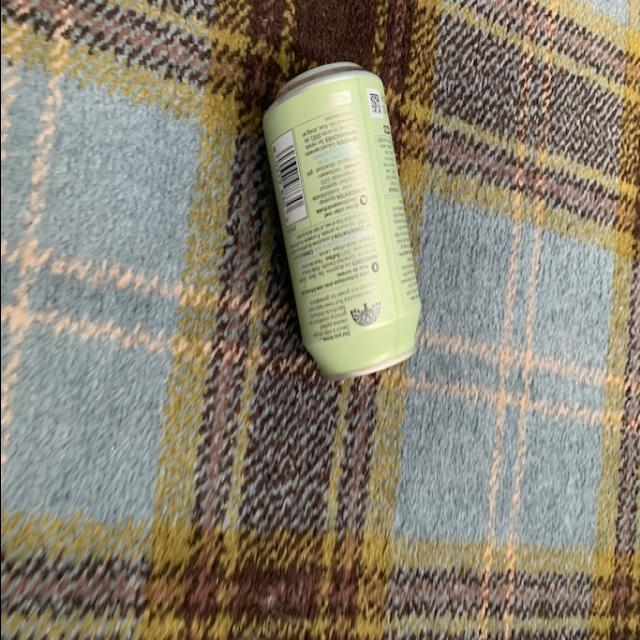litter: (252, 64, 422, 388)
